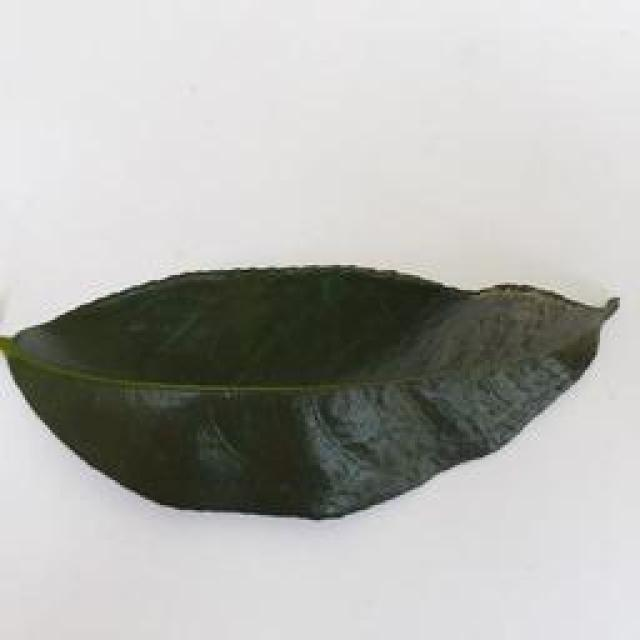Healthy: (0, 252, 635, 522)
